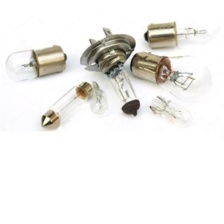light_bulb: (80, 26, 143, 122), (129, 48, 213, 105), (140, 6, 223, 51), (38, 78, 92, 132), (0, 41, 68, 83), (147, 95, 195, 129), (86, 78, 108, 118)
